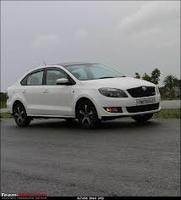car: (6, 63, 161, 127)
